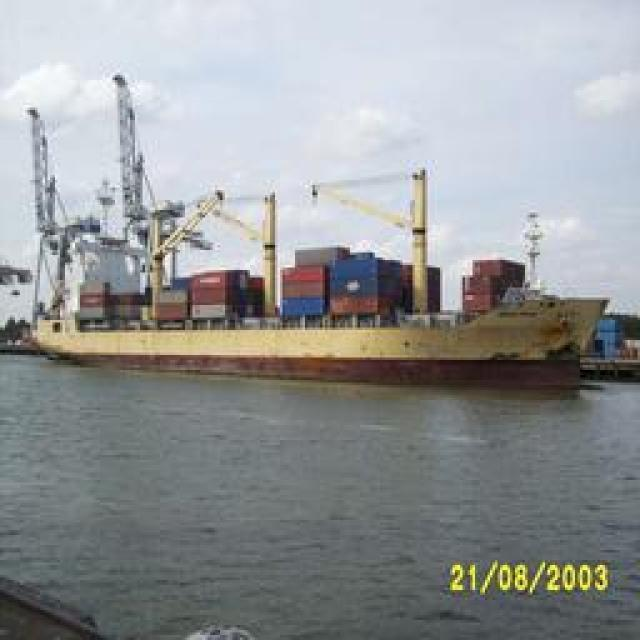CIV_Ship: (32, 61, 608, 371)
